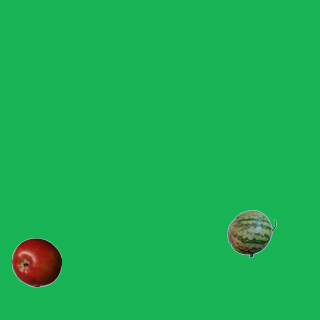Apple Braeburn: (11, 237, 61, 287)
Watermelon: (226, 208, 276, 258)
